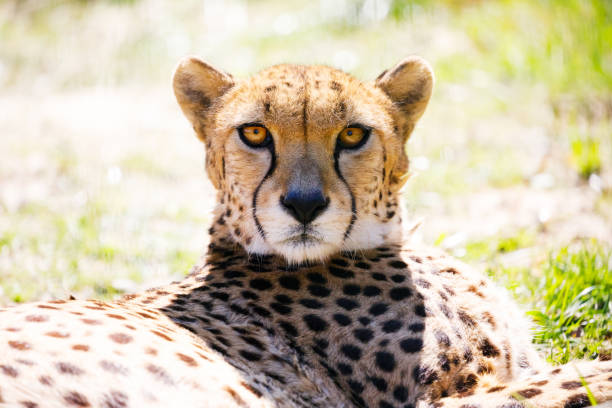cheetah: (161, 40, 449, 286)
